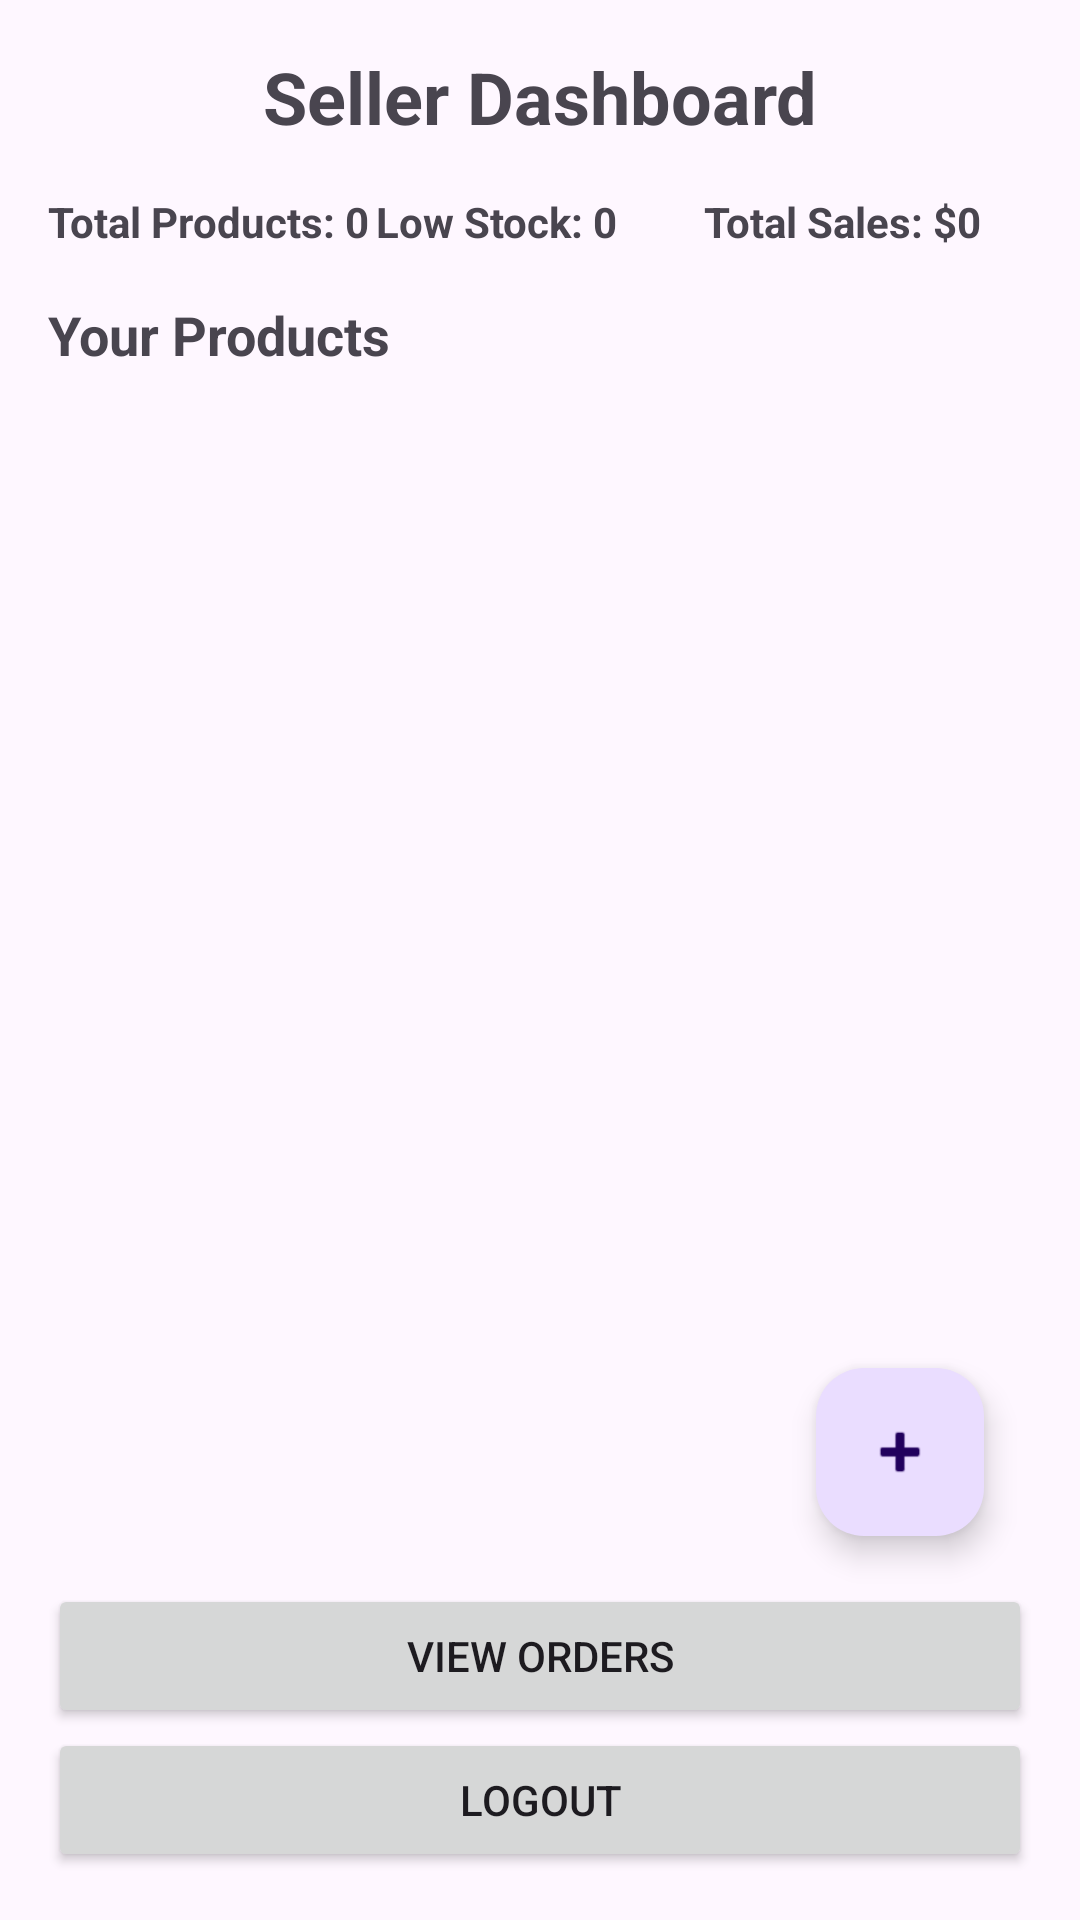

Icons on this 1080 x 1920 Android screen, each with its box as [x1, y1, x2, y2]:
add: [816, 1368, 984, 1536]
